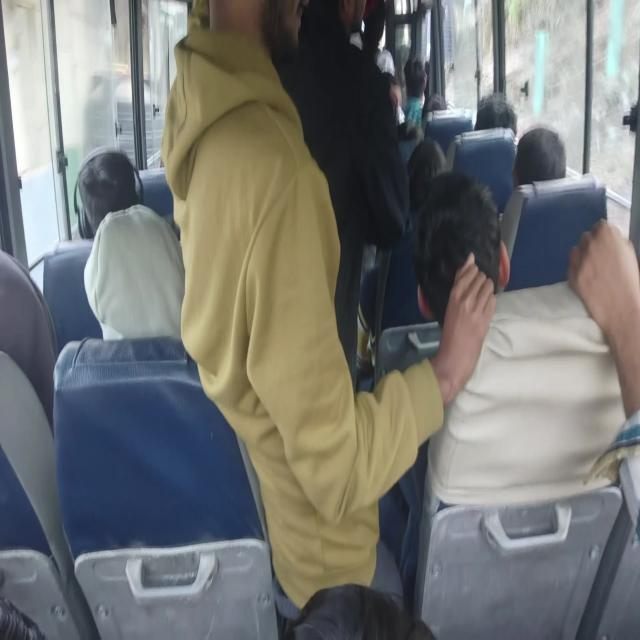person: (160, 1, 503, 631), (411, 169, 639, 513), (275, 0, 410, 388), (74, 146, 185, 340), (73, 146, 142, 240), (512, 124, 566, 188), (400, 56, 428, 140), (474, 91, 517, 135)
